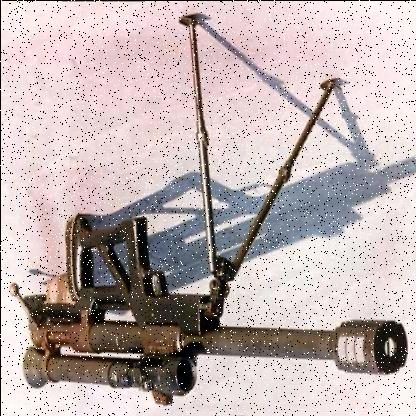rifle: (9, 207, 408, 402)
